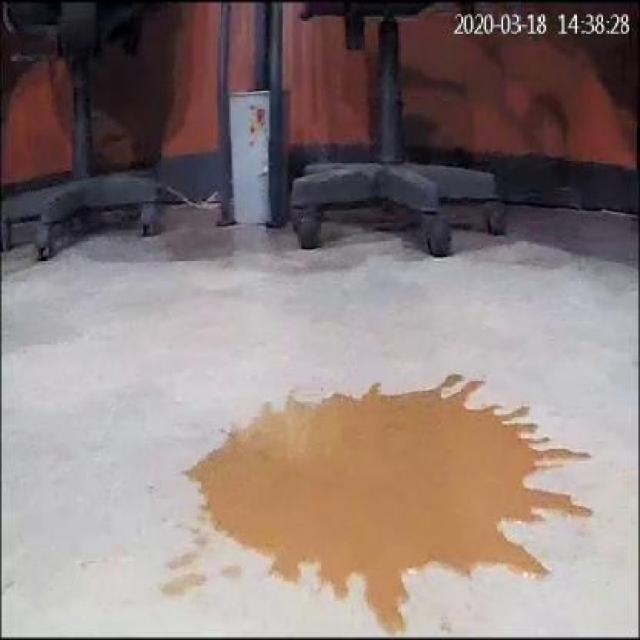spill: (202, 370, 578, 622)
